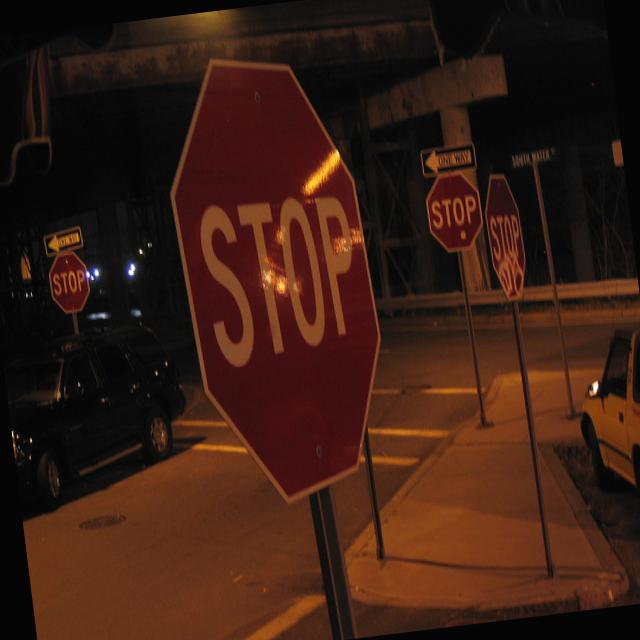Vehicle: (0, 316, 198, 512), (569, 328, 640, 537)
